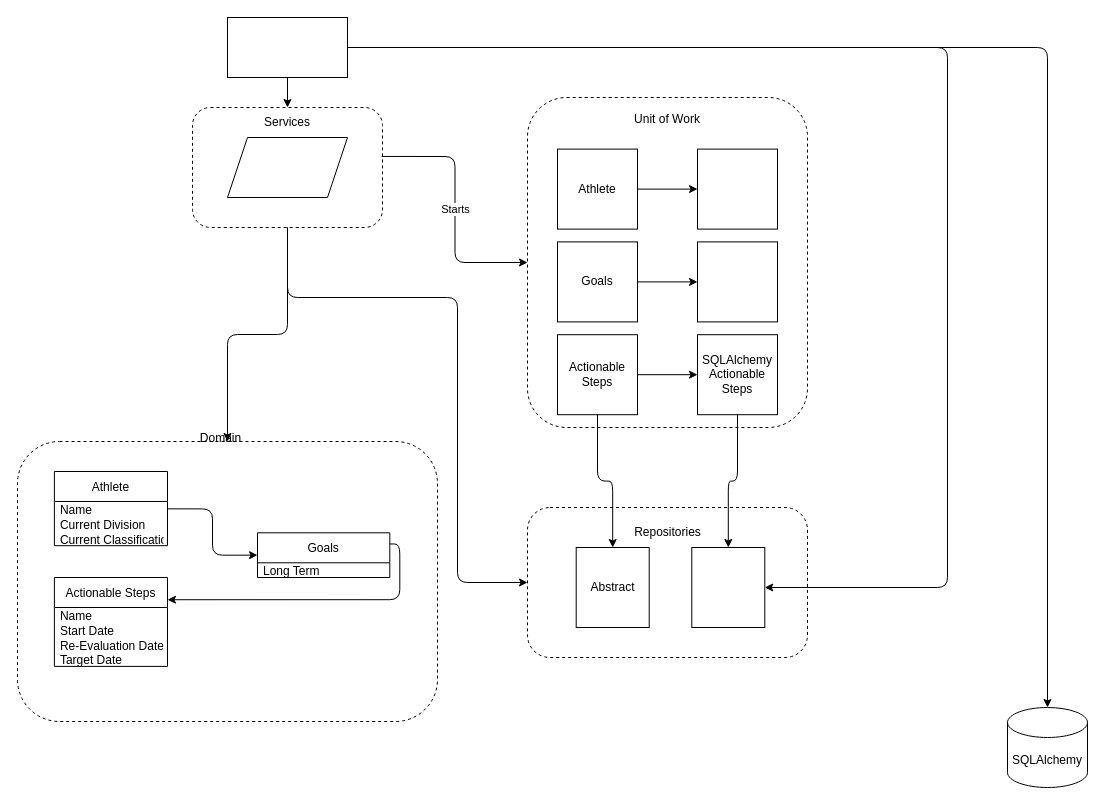
Image size: 1105x805. Some labels were removed from this diagram. Each missing label, with the centre of its shape:
"Flask" goes at [287,47].
"SQLA" goes at [728,587].
"SQLAlchemy Athlete" goes at [737,188].
"SQLAlchemy Goals" goes at [737,281].
